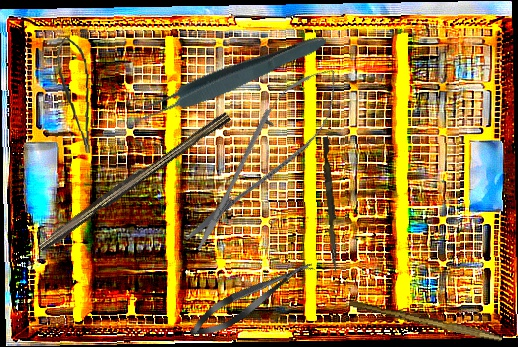Micro Scissor: (169, 52, 357, 264), (184, 252, 319, 345), (54, 36, 95, 155)
Pusher: (319, 136, 343, 275)
Scalpel Handle: (34, 106, 232, 255), (348, 298, 504, 343)
Tissue Forceps: (129, 27, 331, 129)
